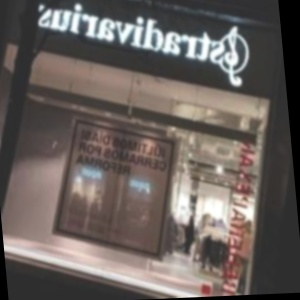stradivarius: (221, 19, 281, 31)
